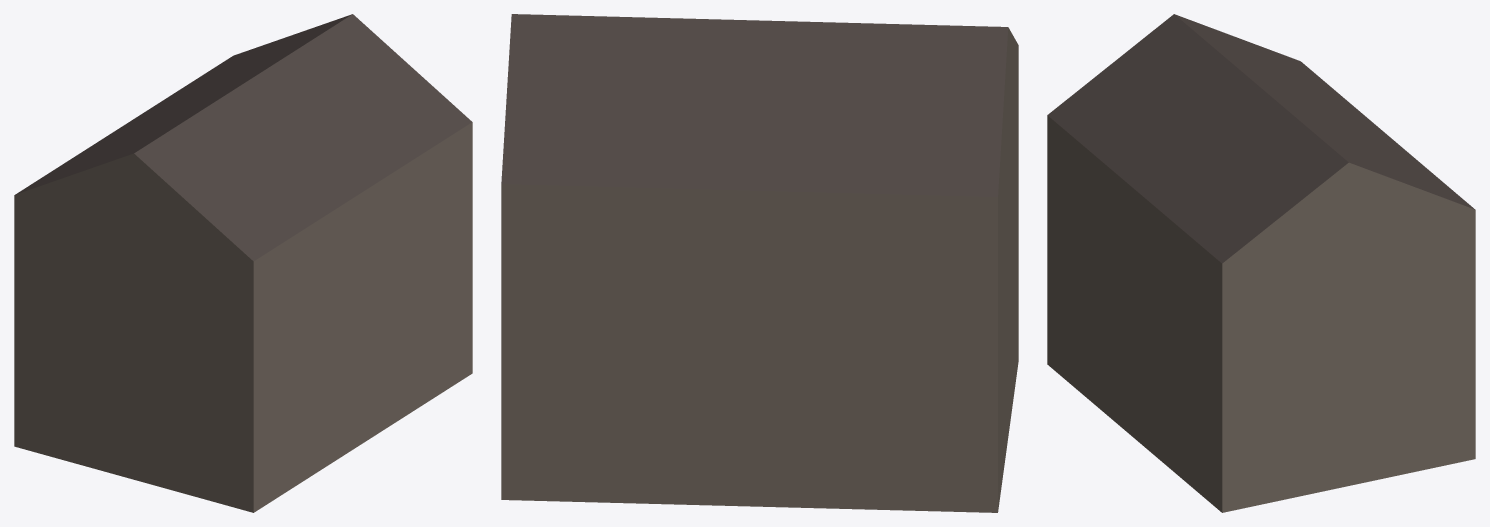
3 views of the same model, side by side, from view 1: azimuth 30°, elevation 25°; view 2: azimuth 150°, elevation 25°; view 3: azimuth 270°, elevation 25° (orthographic). The views are drawn at different scales.
Parts seen in each view (by area): view 1: HP-w859086194; view 2: HP-w859086194; view 3: HP-w859086194.
Boxes of the visible parts, x1,y1,x2,y2 form: HP-w859086194: (14, 14, 472, 512); HP-w859086194: (501, 14, 1018, 512); HP-w859086194: (1047, 14, 1475, 512).
Size of the model in its own units: 15.67 by 11.68 by 14.01.
